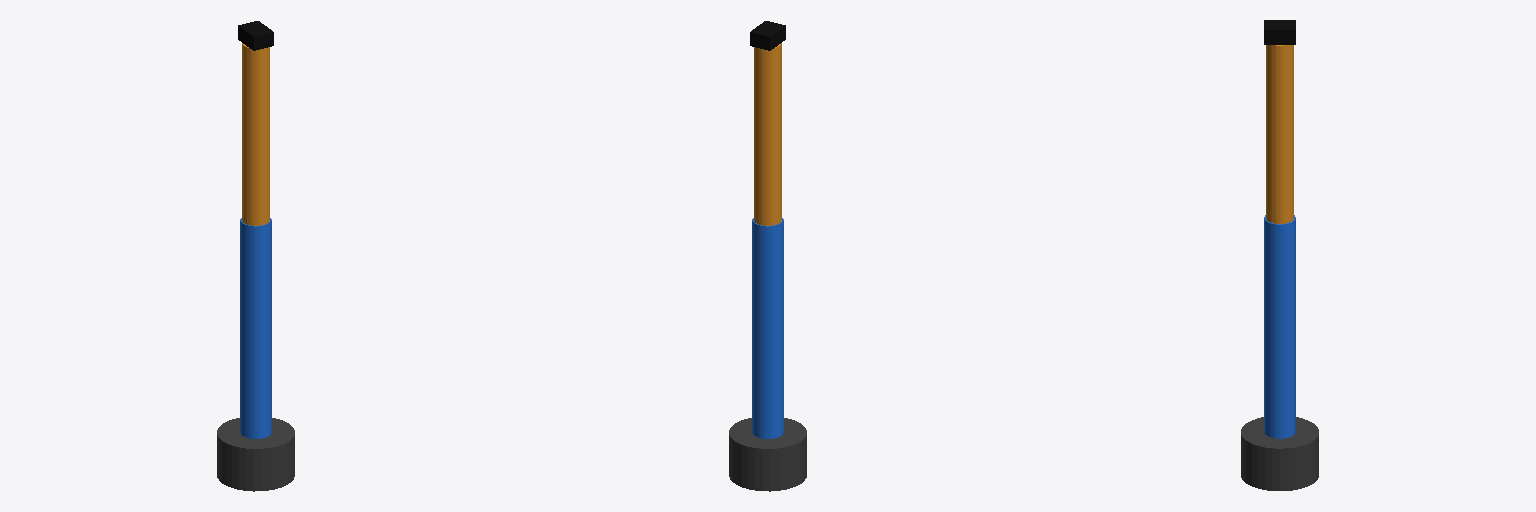
The robot description file, URDF, robot "two_link_arm":
<?xml version="1.0"?>
<!-- 2-link planar arm, the same robot as two_link_arm.xml but written the ROS way (URDF).
     URDF describes the robot only: links, joints, shapes, inertia. No floor, no light, no actuator, no camera.
     urdf_to_mjcf.py turns this file into a MuJoCo model and adds what is missing. -->
<robot name="two_link_arm">
  <!-- Read only by MuJoCo (ROS tools skip this tag): keep fixed-joint links as bodies, keep <visual> shapes -->
  <mujoco>
    <compiler fusestatic="false" discardvisual="false"/>
  </mujoco>

  <material name="grey"><color rgba="0.3 0.3 0.3 1"/></material>
  <material name="blue"><color rgba="0.2 0.5 0.9 1"/></material>
  <material name="orange"><color rgba="0.9 0.6 0.2 1"/></material>
  <material name="black"><color rgba="0.1 0.1 0.1 1"/></material>

  <link name="base_link">
    <visual>
      <origin xyz="0 0 0.03"/>
      <geometry><cylinder radius="0.05" length="0.06"/></geometry>
      <material name="grey"/>
    </visual>
    <collision>
      <origin xyz="0 0 0.03"/>
      <geometry><cylinder radius="0.05" length="0.06"/></geometry>
    </collision>
    <!-- fixed to the world: no <inertial> needed (KDL also warns about inertia on the root link) -->
  </link>

  <link name="link1">
    <visual>
      <origin xyz="0 0 0.15"/>
      <geometry><cylinder radius="0.02" length="0.30"/></geometry>
      <material name="blue"/>
    </visual>
    <collision>
      <origin xyz="0 0 0.15"/>
      <geometry><cylinder radius="0.02" length="0.30"/></geometry>
    </collision>
    <inertial>
      <origin xyz="0 0 0.15"/>
      <mass value="0.40"/>
      <inertia ixx="0.00304" iyy="0.00304" izz="0.00008" ixy="0" ixz="0" iyz="0"/>
    </inertial>
  </link>

  <link name="link2">
    <visual>
      <origin xyz="0 0 0.125"/>
      <geometry><cylinder radius="0.018" length="0.25"/></geometry>
      <material name="orange"/>
    </visual>
    <collision>
      <origin xyz="0 0 0.125"/>
      <geometry><cylinder radius="0.018" length="0.25"/></geometry>
    </collision>
    <inertial>
      <origin xyz="0 0 0.125"/>
      <mass value="0.28"/>
      <inertia ixx="0.00148" iyy="0.00148" izz="0.000045" ixy="0" ixz="0" iyz="0"/>
    </inertial>
  </link>

  <link name="camera_link">
    <visual>
      <geometry><box size="0.03 0.04 0.02"/></geometry>
      <material name="black"/>
    </visual>
    <inertial>
      <mass value="0.02"/>
      <inertia ixx="0.000004" iyy="0.000003" izz="0.000005" ixy="0" ixz="0" iyz="0"/>
    </inertial>
  </link>

  <!-- ROS camera convention (REP 103): z = viewing direction, x = image right, y = image down -->
  <link name="camera_optical_frame"/>

  <joint name="joint1" type="revolute">
    <parent link="base_link"/>
    <child link="link1"/>
    <origin xyz="0 0 0.06" rpy="0 0 0"/>
    <axis xyz="0 1 0"/>
    <limit lower="-1.57" upper="1.57" effort="20" velocity="3.0"/>
    <dynamics damping="0.5"/>
  </joint>

  <joint name="joint2" type="revolute">
    <parent link="link1"/>
    <child link="link2"/>
    <origin xyz="0 0 0.30" rpy="0 0 0"/>
    <axis xyz="0 1 0"/>
    <limit lower="-2.0" upper="2.0" effort="20" velocity="3.0"/>
    <dynamics damping="0.5"/>
  </joint>

  <joint name="camera_joint" type="fixed">
    <parent link="link2"/>
    <child link="camera_link"/>
    <origin xyz="0 0 0.26" rpy="0 0 0"/>
  </joint>

  <joint name="camera_optical_joint" type="fixed">
    <parent link="camera_link"/>
    <child link="camera_optical_frame"/>
    <origin xyz="0 0 0.01" rpy="0 0 -1.5708"/>
  </joint>
</robot>

--- What the picture shows (computed from the rendered views, not written in the file) ---
The picture shows the robot from 3 angles, left to right: view 1: azimuth 30°, elevation 25°; view 2: azimuth 150°, elevation 25°; view 3: azimuth 270°, elevation 25°; orthographic projection.
Robot: two_link_arm — 5 links, 4 joints (2 revolute, 2 fixed); root link base_link; default pose: all joints at 0.
Visible links, largest first — view 1: link1, link2, base_link, camera_link; view 2: link1, link2, base_link, camera_link; view 3: link1, link2, base_link, camera_link.
Boxes of the visible links, x1,y1,x2,y2 form: link1: (240, 218, 271, 438); link2: (242, 43, 269, 225); base_link: (217, 418, 294, 491); camera_link: (238, 21, 273, 50); link1: (752, 218, 783, 438); link2: (754, 43, 781, 225); base_link: (729, 418, 806, 491); camera_link: (750, 21, 785, 50); link1: (1264, 215, 1295, 438); link2: (1266, 45, 1293, 223); base_link: (1241, 417, 1318, 490); camera_link: (1264, 20, 1295, 44).
Bounding box of the posed robot: 0.1 × 0.1 × 0.63 m (x, y, z).
Geometry: primitives only (box / cylinder / sphere), no mesh files.
